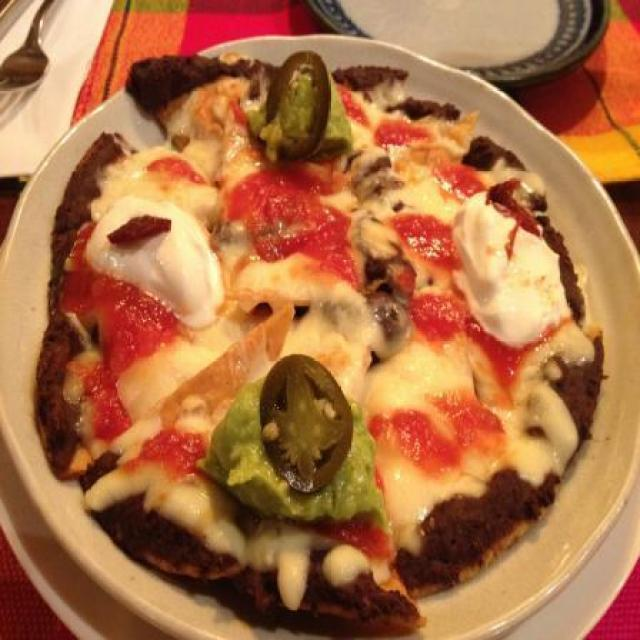Pizza: (19, 46, 632, 623)
